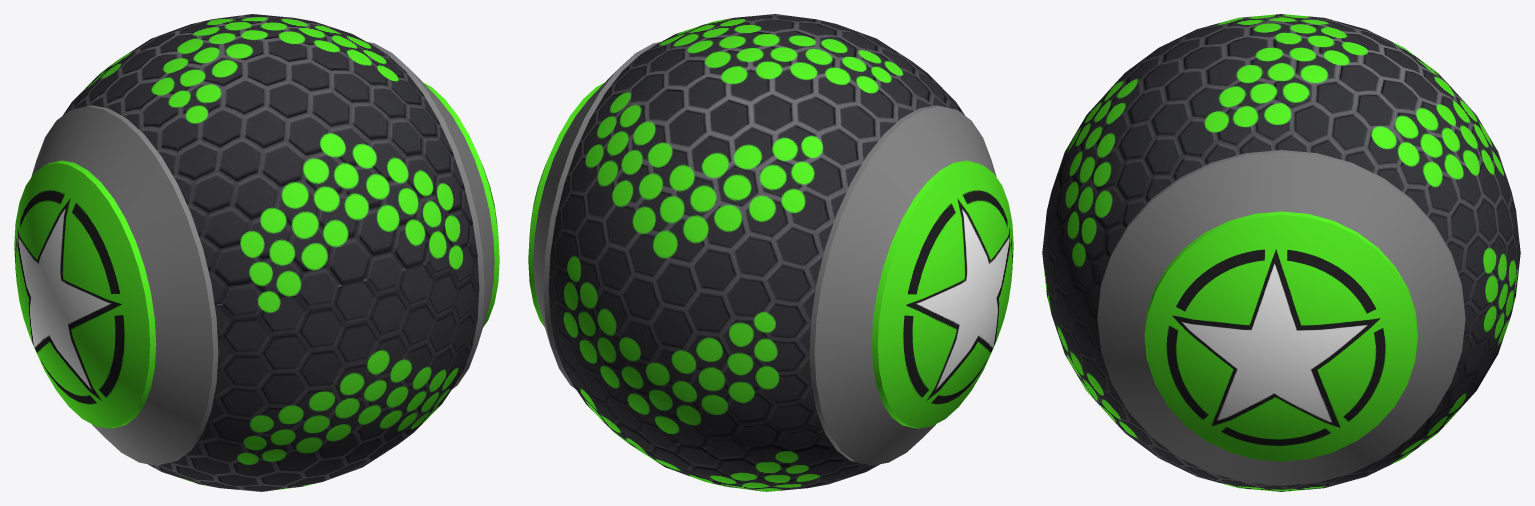
File: ball4.fbx
3 renders of one model, left to right at view 1: azimuth 30°, elevation 25°; view 2: azimuth 150°, elevation 25°; view 3: azimuth 270°, elevation 25°, orthographic.
Visible parts, largest first — view 1: Sphere; view 2: Sphere; view 3: Sphere.
Boxes of the visible parts, x1=… form: Sphere: x1=14, y1=14, x2=499, y2=491; Sphere: x1=528, y1=14, x2=1013, y2=491; Sphere: x1=1042, y1=14, x2=1520, y2=491.
Bounding box in the file's own units: 244 × 240 × 240.
Materials: 1 (1 with a texture image).
